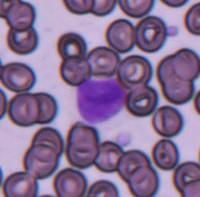L: (76, 73, 127, 124)
